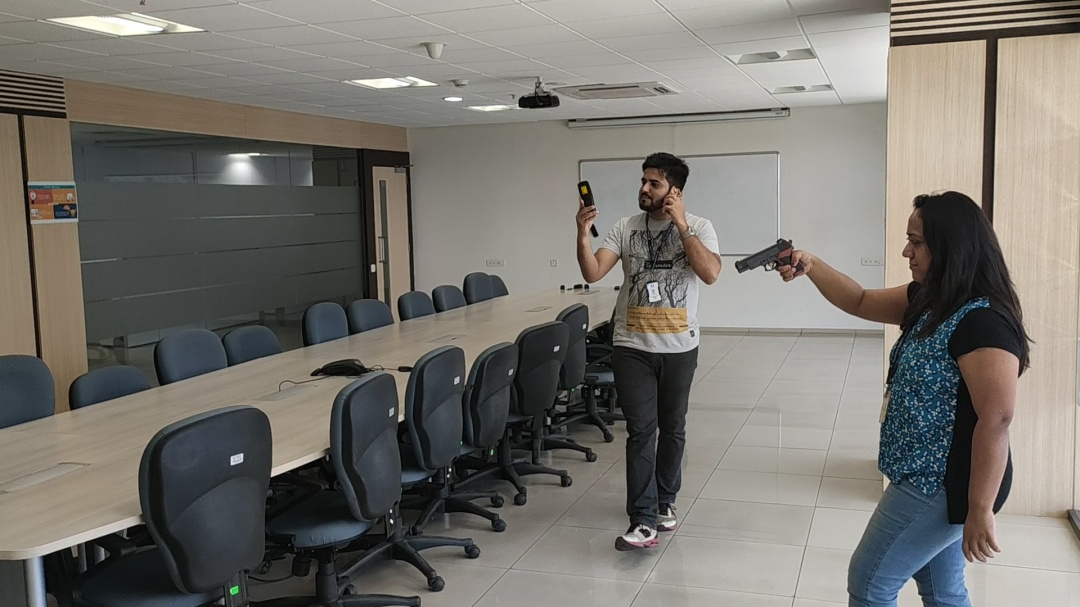gun: (735, 237, 806, 276)
